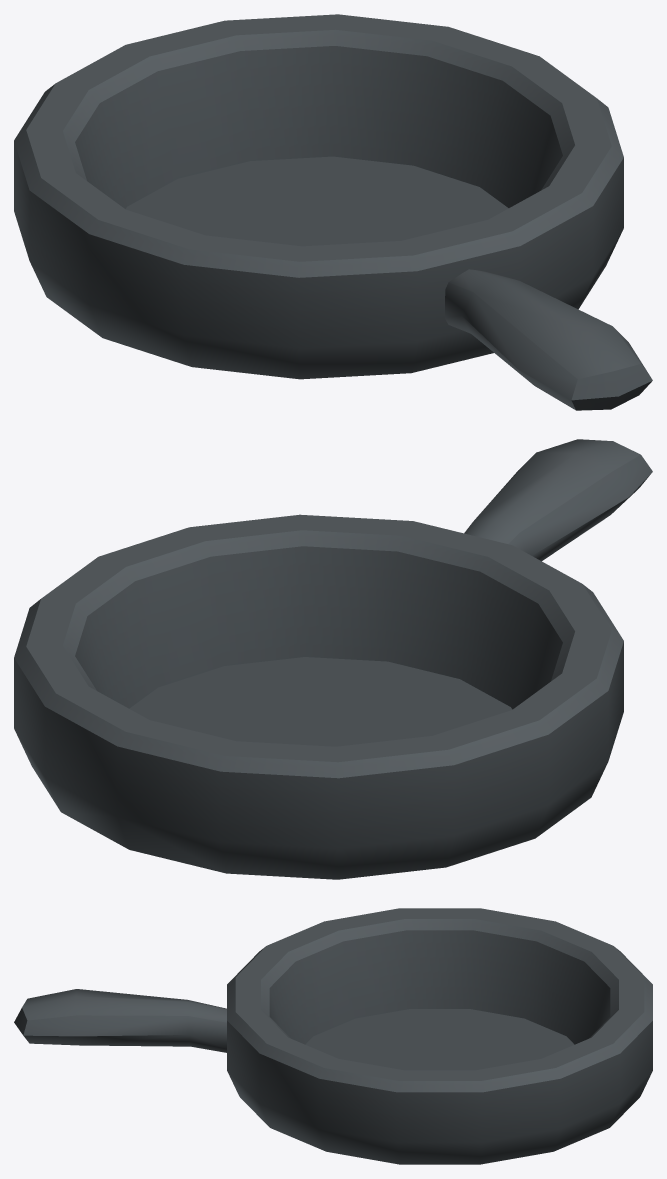
Rendered from Pan-2ShlDi3R6e.glb.
3 views of the same model, one above another, from view 1: azimuth 30°, elevation 25°; view 2: azimuth 150°, elevation 25°; view 3: azimuth 270°, elevation 25° (orthographic). The views are drawn at different scales.
Visible parts, largest first — view 1: pan_B; view 2: pan_B; view 3: pan_B.
Boxes of the visible parts, x1,y1,x2,y2 form: pan_B: (14,14,652,410); pan_B: (14,439,652,879); pan_B: (14,908,652,1164).
Bounding box in the file's own units: 1 × 0.25 × 1.5.
1 material, 1 textured.
